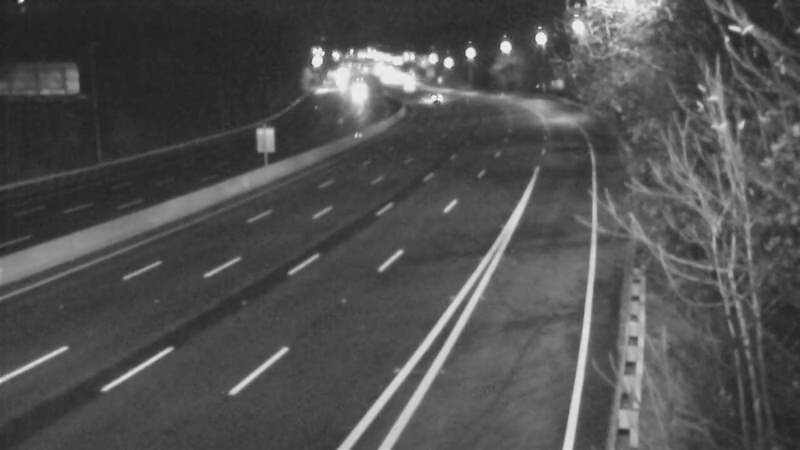vehicle: (406, 74, 456, 124), (333, 68, 383, 118)
